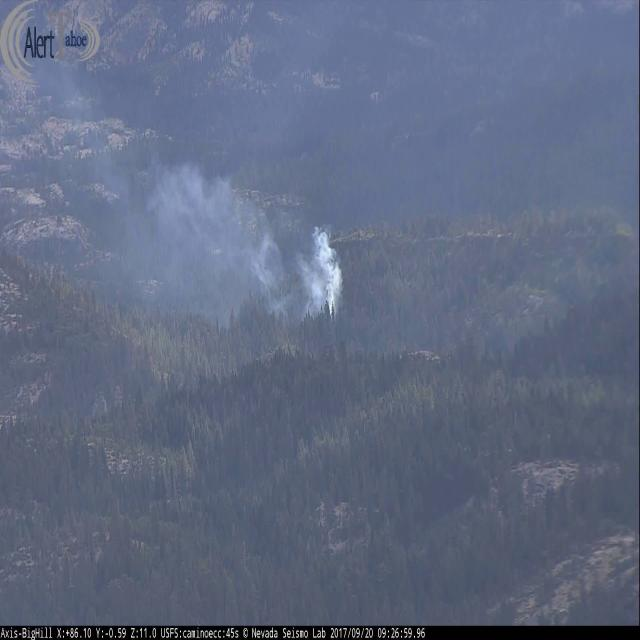smoke: (62, 82, 345, 327)
